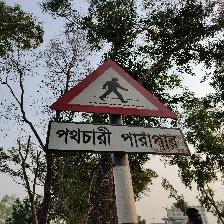Pedestrian-crossing: (46, 59, 190, 155)
